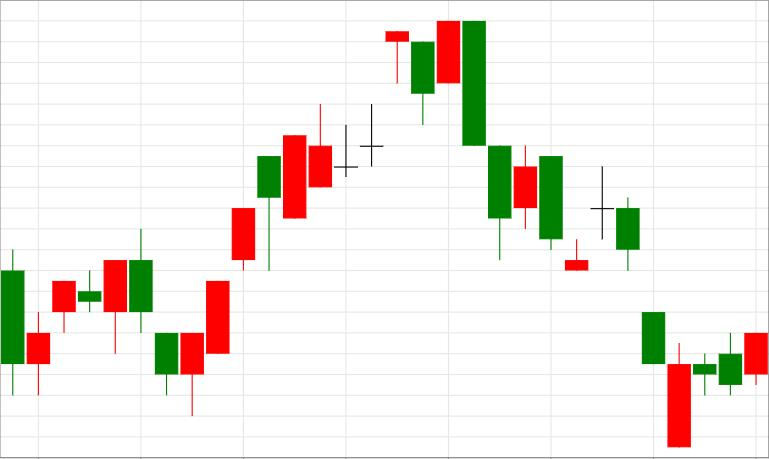bearish_engulfing_fall: (181, 21, 486, 417)
